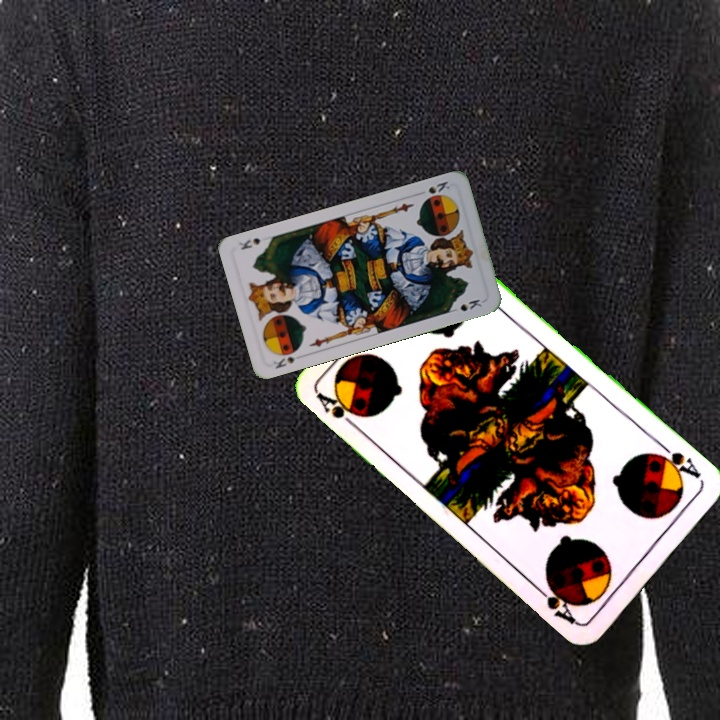SA: (649, 440, 704, 484), (313, 389, 366, 434)
SK: (413, 177, 453, 198), (269, 350, 307, 371)
